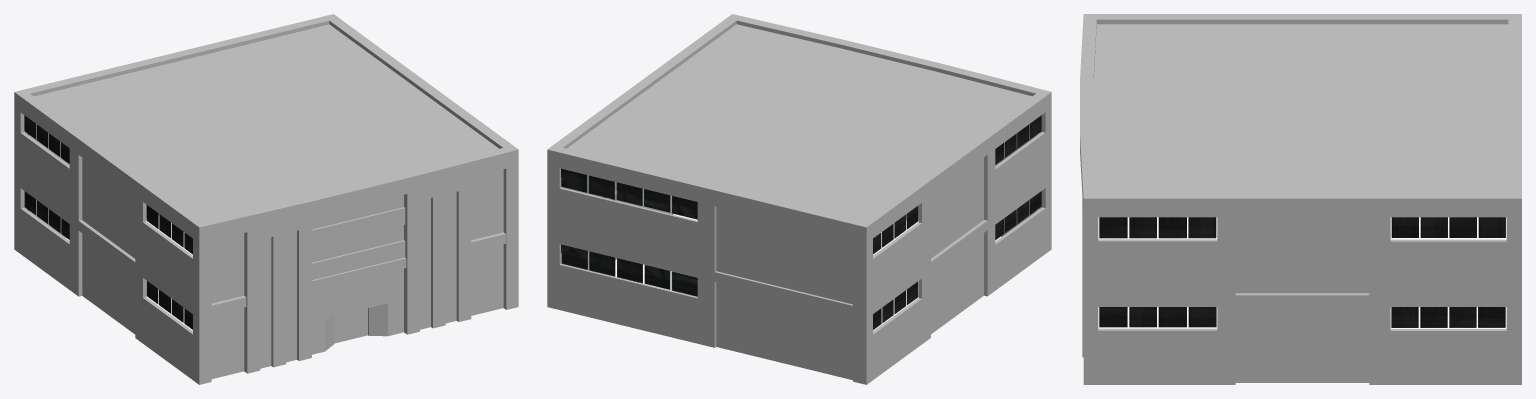
3 renders of one model, left to right at view 1: azimuth 30°, elevation 25°; view 2: azimuth 150°, elevation 25°; view 3: azimuth 270°, elevation 25°, orthographic. The views are drawn at different scales.
Parts seen in each view (by area): view 1: BB-086; view 2: BB-086; view 3: BB-086.
Part boxes in pixels (x1,y1,x2,y2): BB-086: (14, 14, 518, 384); BB-086: (547, 14, 1051, 384); BB-086: (1080, 14, 1521, 384).
Size of what is drawn, in the model's own units: 25.94 by 12.22 by 26.26.
